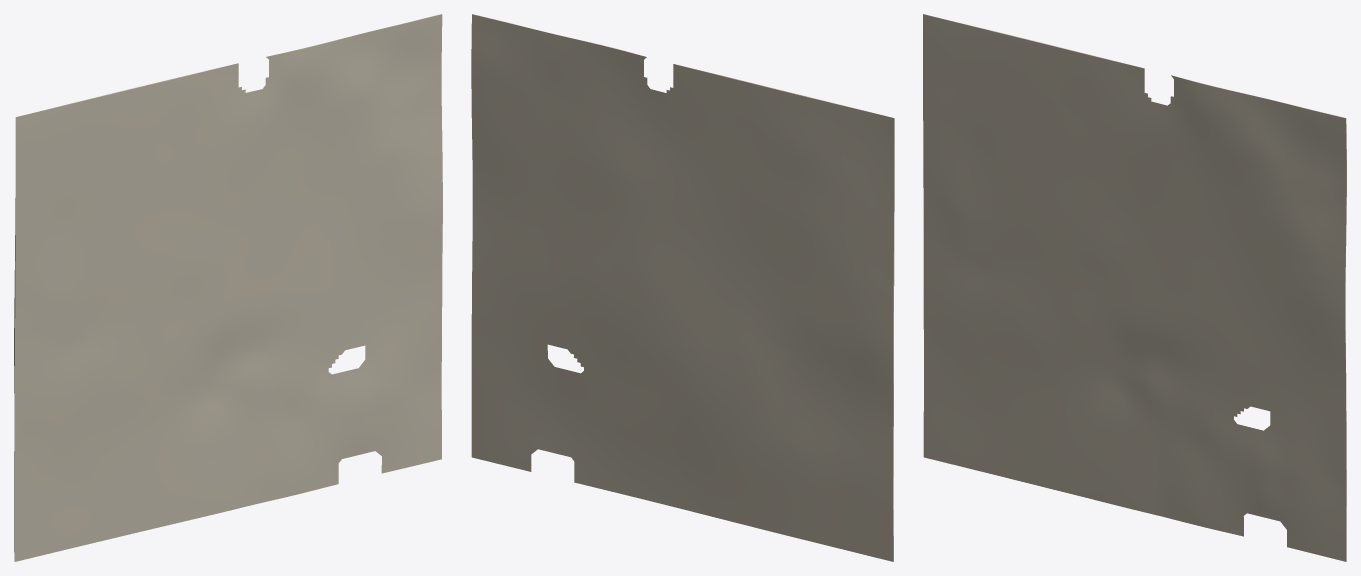
The model's file is L01_shell.glb.
3 renders of one model, left to right at view 1: azimuth 30°, elevation 25°; view 2: azimuth 150°, elevation 25°; view 3: azimuth 330°, elevation 25°, orthographic.
Parts seen in each view (by area): view 1: world; view 2: world; view 3: world.
Part boxes in pixels (x1,y1,x2,y2): world: [14, 14, 442, 561]; world: [471, 14, 894, 561]; world: [923, 14, 1346, 561].
Size of the model in its own units: 12800 by 12800 by 187.
